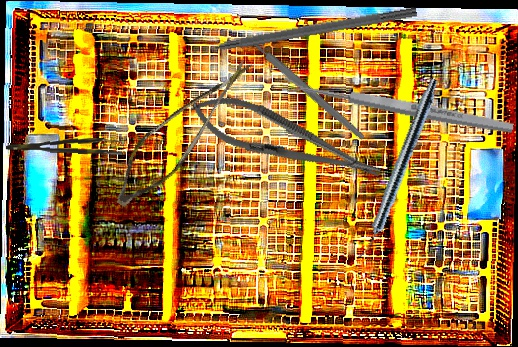Handpiece: (355, 75, 442, 263)
Hook Surgical: (184, 3, 418, 59)
Micro Scissor: (105, 32, 255, 227)
Needle Holder: (183, 82, 388, 198)
Scalpel Handle: (243, 33, 367, 142)
Surgical Spoon: (281, 75, 515, 137)
Tissue Forceps: (5, 134, 123, 156)
